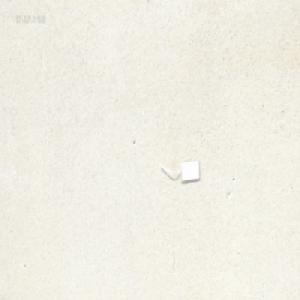LuggageTag: (159, 158, 200, 184)
